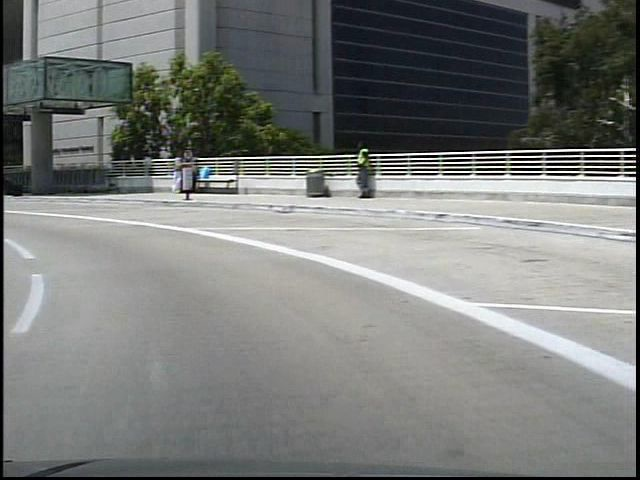person: (344, 139, 368, 202)
